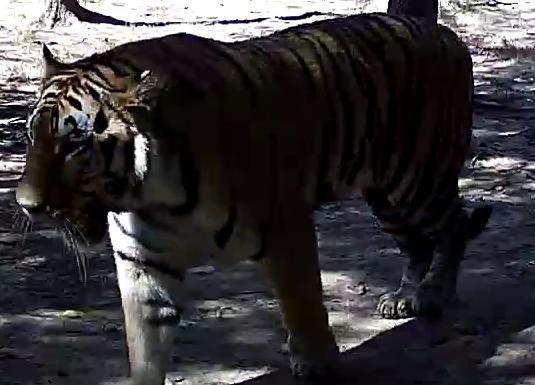tiger: (17, 0, 489, 384)
